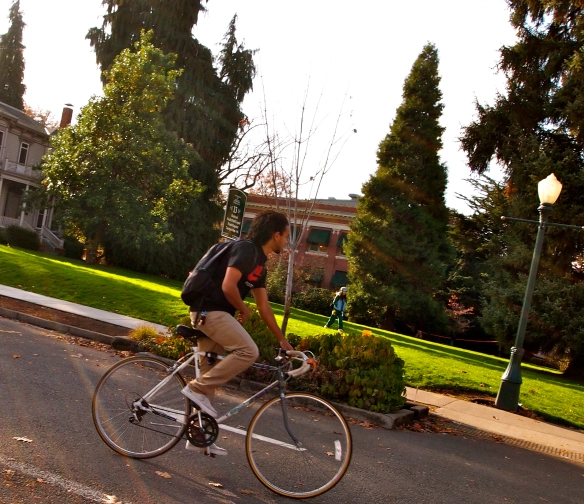bike: (86, 341, 355, 500)
person: (173, 208, 313, 456), (321, 283, 357, 336)
